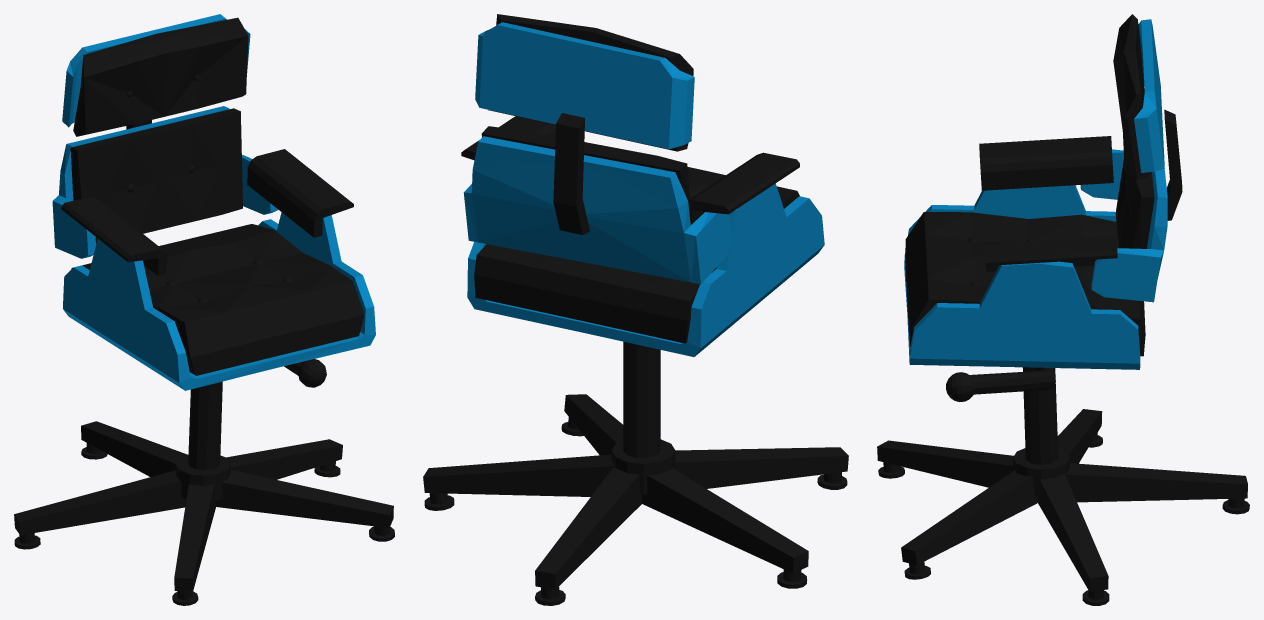
The model's file is gamingchair.glb.
The picture shows the model from 3 angles, left to right: view 1: azimuth 30°, elevation 25°; view 2: azimuth 150°, elevation 25°; view 3: azimuth 270°, elevation 25°; orthographic projection. The views are drawn at different scales.
Visible parts, largest first — view 1: node_MeshObject-210038784-PolyPaper23; view 2: node_MeshObject-210038784-PolyPaper23; view 3: node_MeshObject-210038784-PolyPaper23.
Boxes of the visible parts, x1=… form: node_MeshObject-210038784-PolyPaper23: x1=14, y1=14, x2=394, y2=605; node_MeshObject-210038784-PolyPaper23: x1=423, y1=14, x2=848, y2=605; node_MeshObject-210038784-PolyPaper23: x1=877, y1=14, x2=1249, y2=605.
Size of the model in its own units: 1.14 by 1.54 by 1.09.
